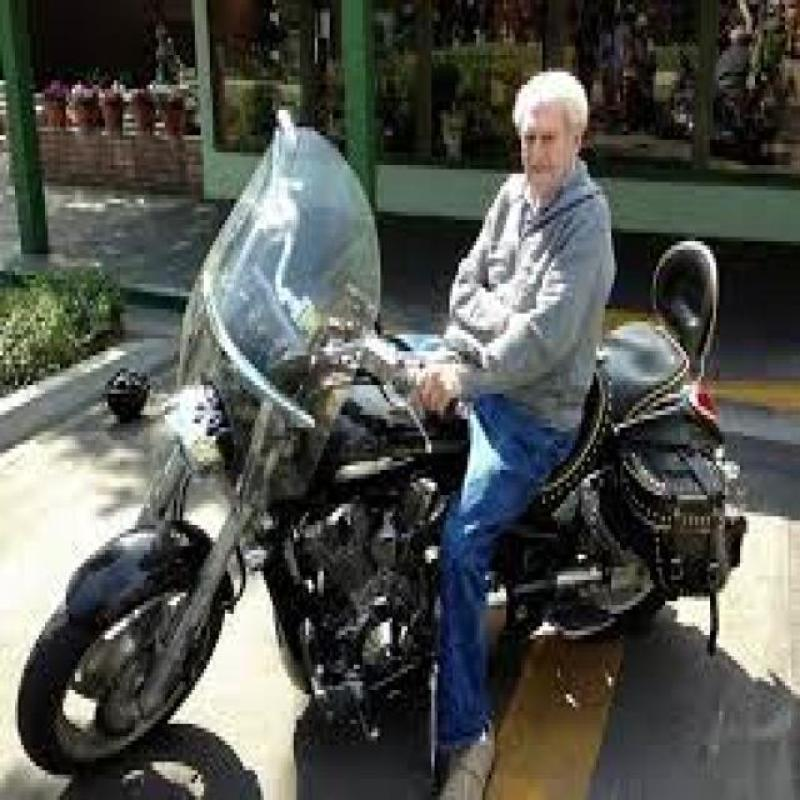nohelmet: (514, 56, 596, 204)
